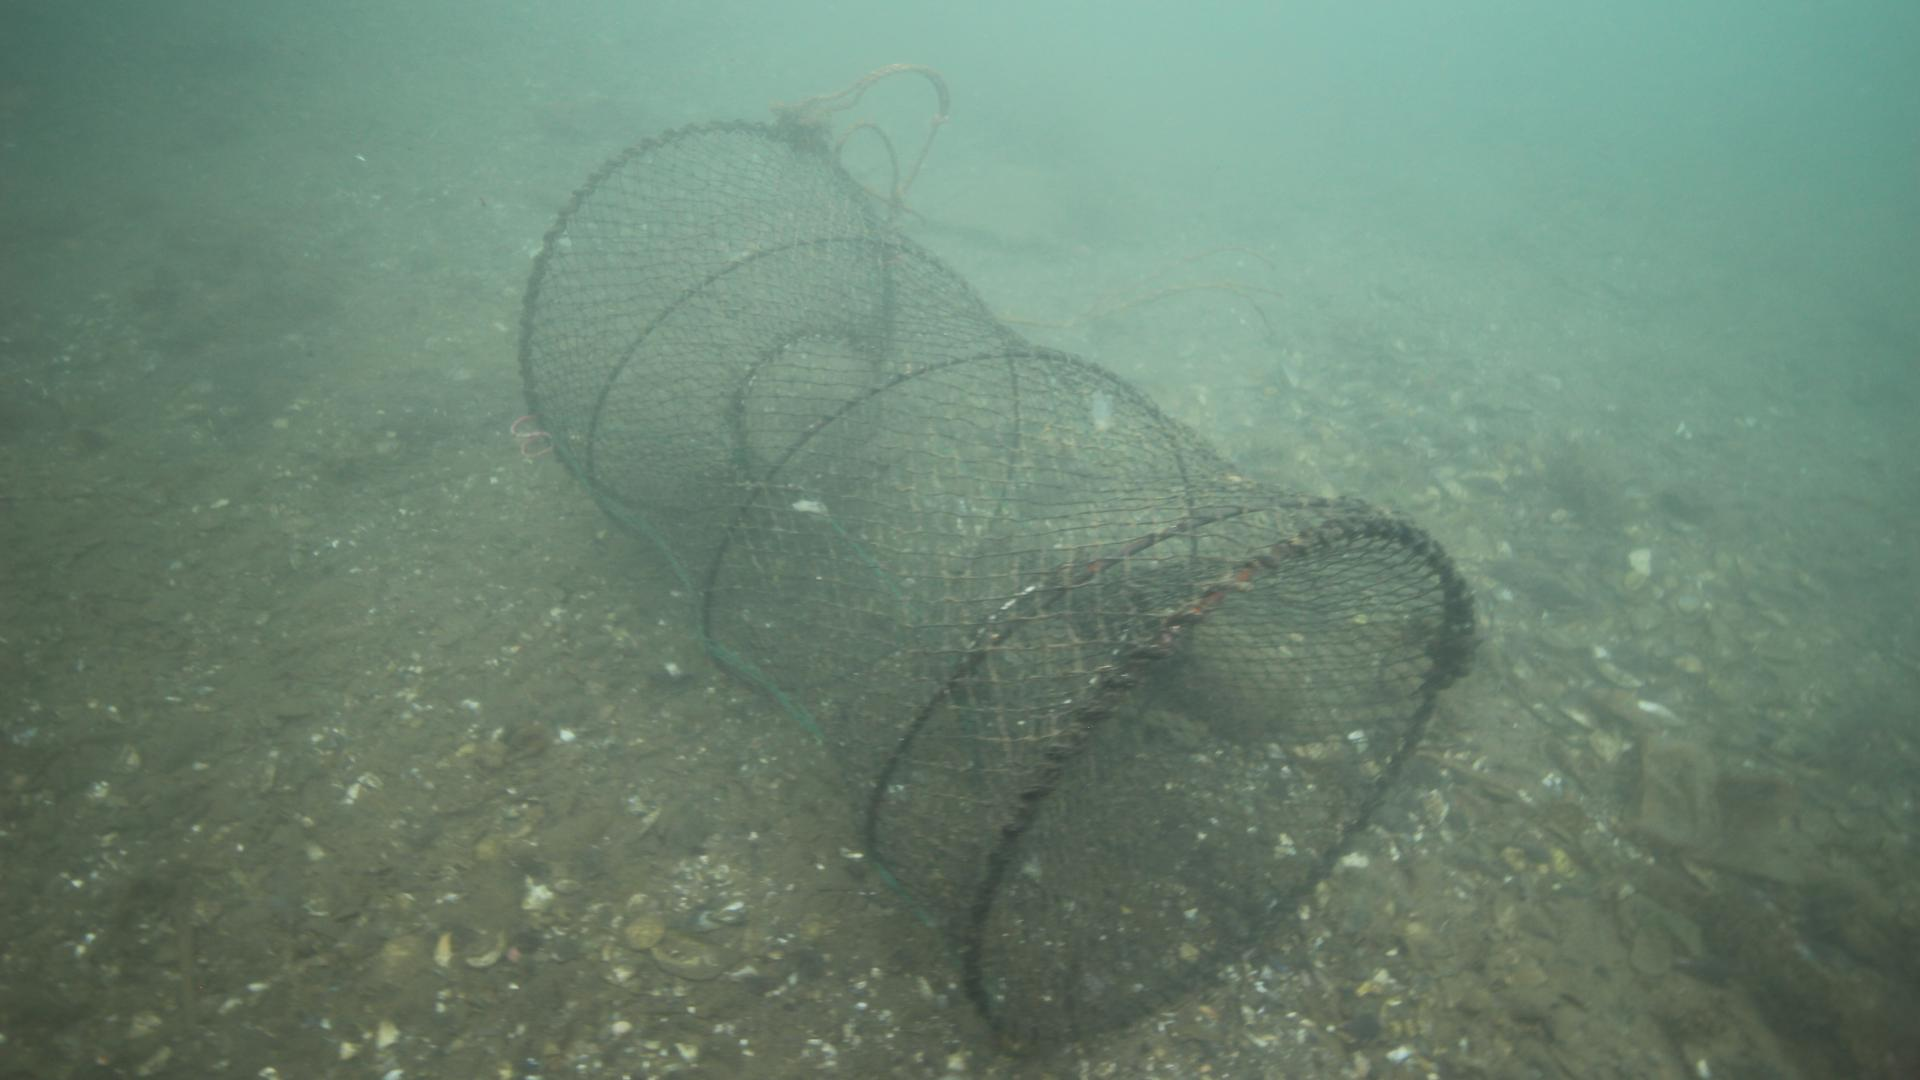bundle of ropes: (793, 61, 952, 223)
spring fish trap: (516, 115, 1466, 1048)
